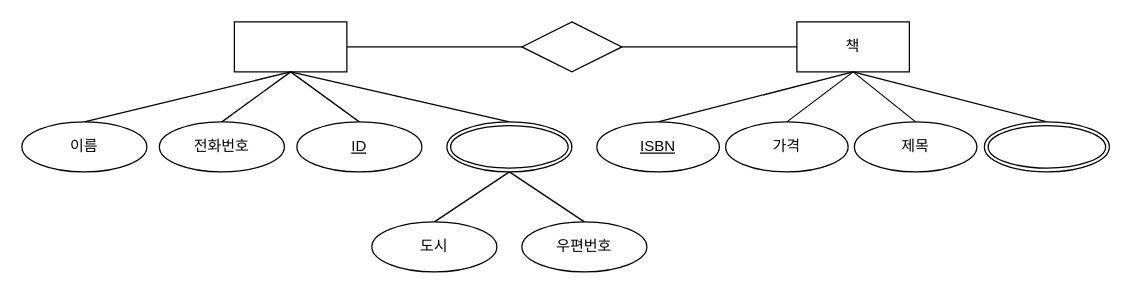
This 1131x294 diagram has some shape labels left out. The box of each missing label's shape, as (x1, y1, x2, y2) in pixels:
고객: (233, 21, 347, 72)
구매: (521, 21, 622, 72)
작가: (983, 121, 1109, 172)
주소: (446, 121, 572, 172)
